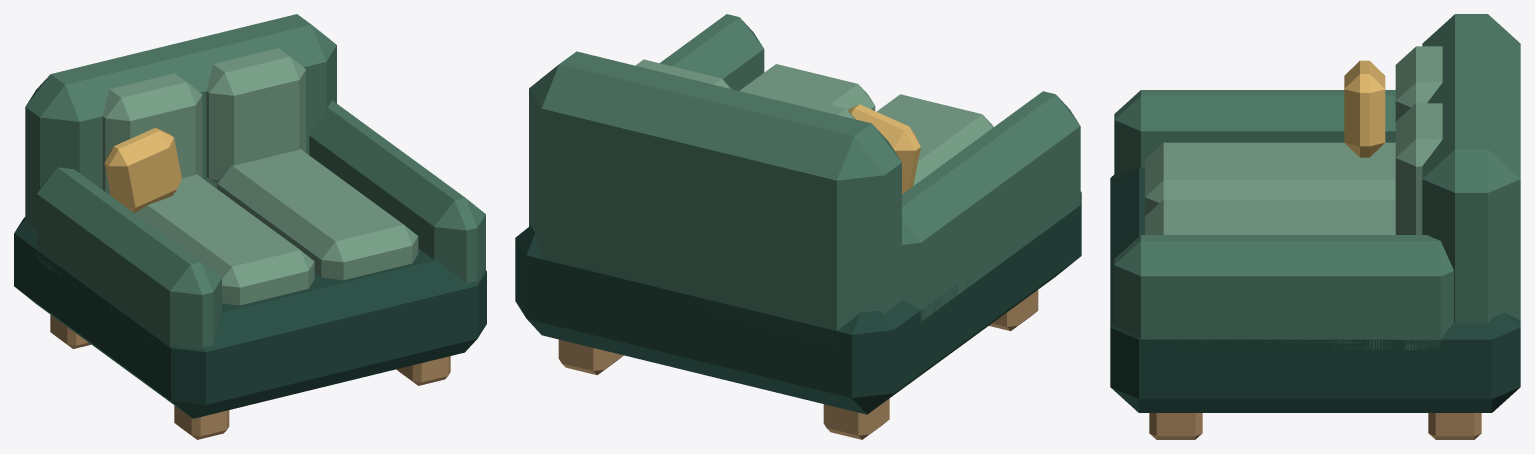
The model's file is sofa.glb.
3 views of the same model, side by side, from view 1: azimuth 30°, elevation 25°; view 2: azimuth 150°, elevation 25°; view 3: azimuth 270°, elevation 25° (orthographic). The views are drawn at different scales.
Parts seen in each view (by area): view 1: green_Asset_sofa, sage_Asset_sofa, deep_Asset_sofa, brass_Asset_sofa, wood_Asset_sofa; view 2: green_Asset_sofa, deep_Asset_sofa, sage_Asset_sofa, wood_Asset_sofa, brass_Asset_sofa; view 3: green_Asset_sofa, deep_Asset_sofa, sage_Asset_sofa, brass_Asset_sofa, wood_Asset_sofa.
Boxes of the visible parts, x1,y1,x2,y2 form: green_Asset_sofa: [25, 14, 485, 355]; sage_Asset_sofa: [102, 48, 418, 305]; deep_Asset_sofa: [14, 217, 486, 418]; brass_Asset_sofa: [104, 127, 181, 212]; wood_Asset_sofa: [50, 314, 450, 439]; green_Asset_sofa: [529, 14, 1080, 345]; deep_Asset_sofa: [515, 191, 1081, 414]; sage_Asset_sofa: [635, 59, 993, 185]; wood_Asset_sofa: [558, 290, 1038, 439]; brass_Asset_sofa: [847, 104, 920, 193]; green_Asset_sofa: [1114, 14, 1520, 350]; deep_Asset_sofa: [1110, 168, 1520, 412]; sage_Asset_sofa: [1145, 46, 1442, 234]; brass_Asset_sofa: [1344, 60, 1385, 157]; wood_Asset_sofa: [1149, 413, 1481, 439].
Size of the model in its own units: 1 by 0.78 by 1.
